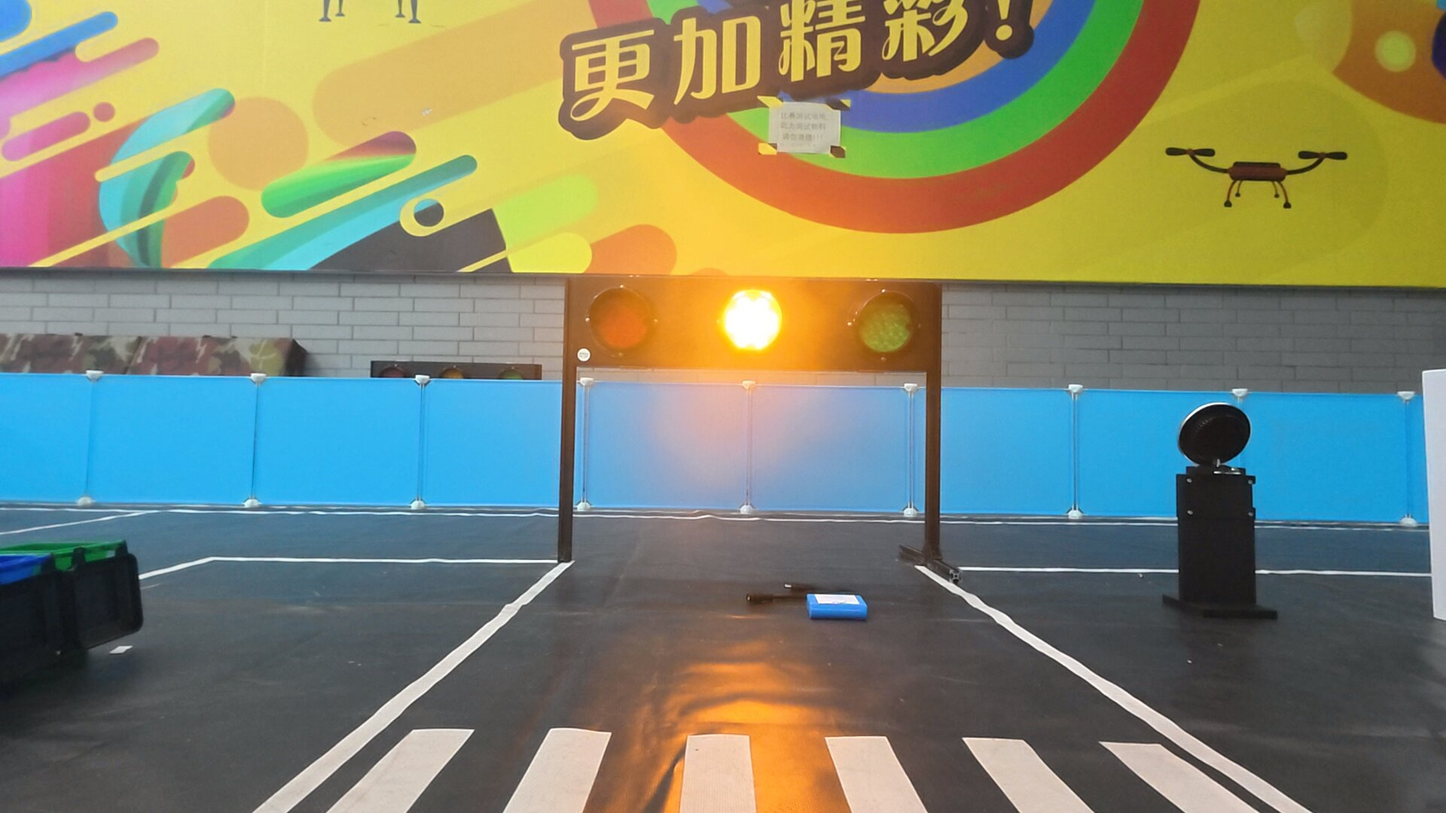stop: (717, 286, 787, 353)
